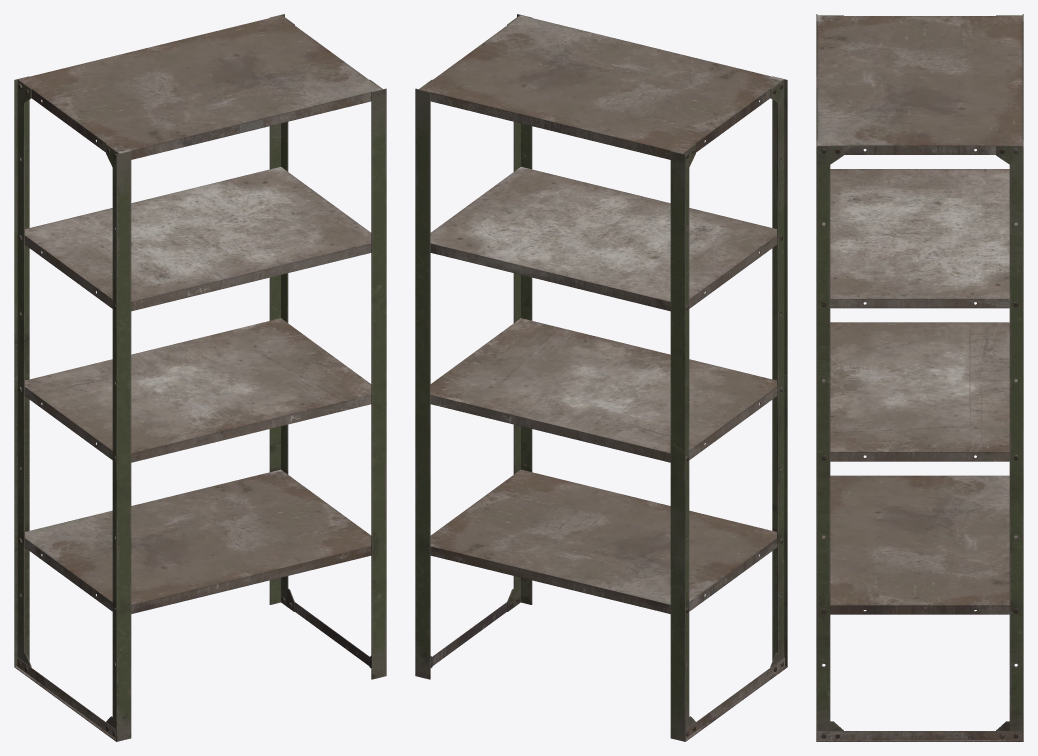
The model's file is worn_rack.glb.
3 renders of one model, left to right at view 1: azimuth 30°, elevation 25°; view 2: azimuth 150°, elevation 25°; view 3: azimuth 270°, elevation 25°, orthographic.
Visible parts, largest first — view 1: worn_metal_rack; view 2: worn_metal_rack; view 3: worn_metal_rack.
Part boxes in pixels (x1,y1,x2,y2): worn_metal_rack: (14, 14, 386, 741); worn_metal_rack: (415, 14, 787, 741); worn_metal_rack: (816, 14, 1023, 741).
Bounding box in the file's own units: 0.9153 × 1.9 × 0.6001.
1 material, 1 textured.
